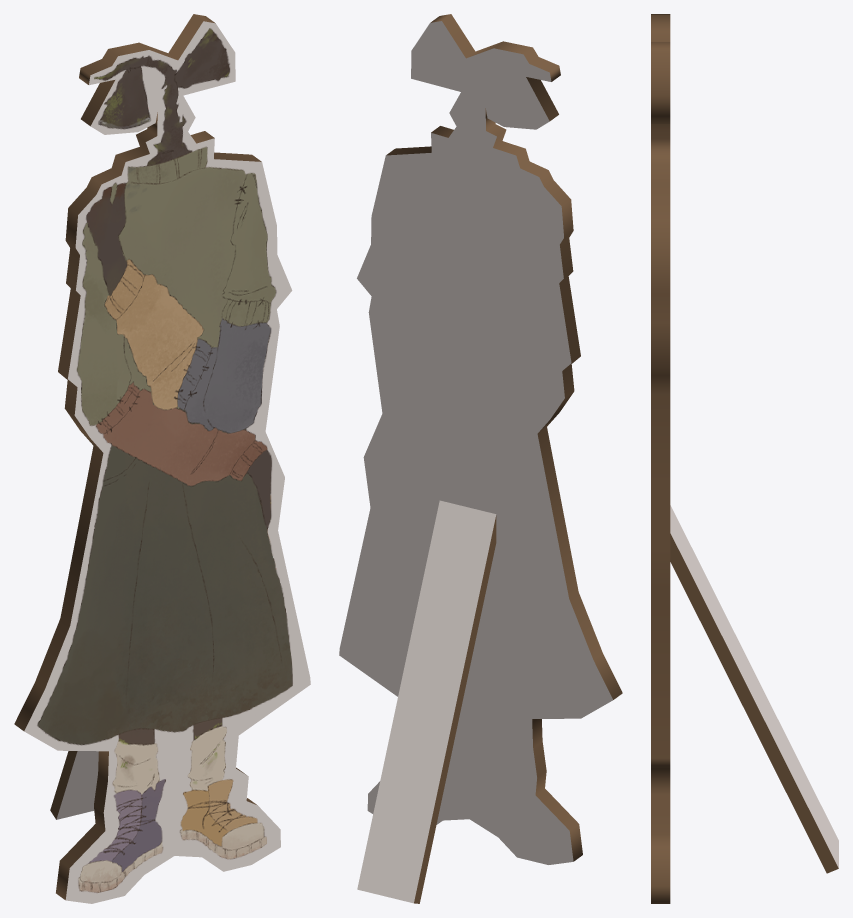
File: HesaFrida_Sad.fbx
3 renders of one model, left to right at view 1: azimuth 30°, elevation 25°; view 2: azimuth 150°, elevation 25°; view 3: azimuth 270°, elevation 25°, orthographic. The views are drawn at different scales.
Visible parts, largest first — view 1: HesaFrida_Sad; view 2: HesaFrida_Sad; view 3: HesaFrida_Sad.
Boxes of the visible parts, bbox=[...] form: HesaFrida_Sad: bbox=[14, 14, 310, 903]; HesaFrida_Sad: bbox=[339, 14, 622, 903]; HesaFrida_Sad: bbox=[651, 14, 838, 903].
Bounding box in the file's own units: 67.3 × 192 × 39.1.
